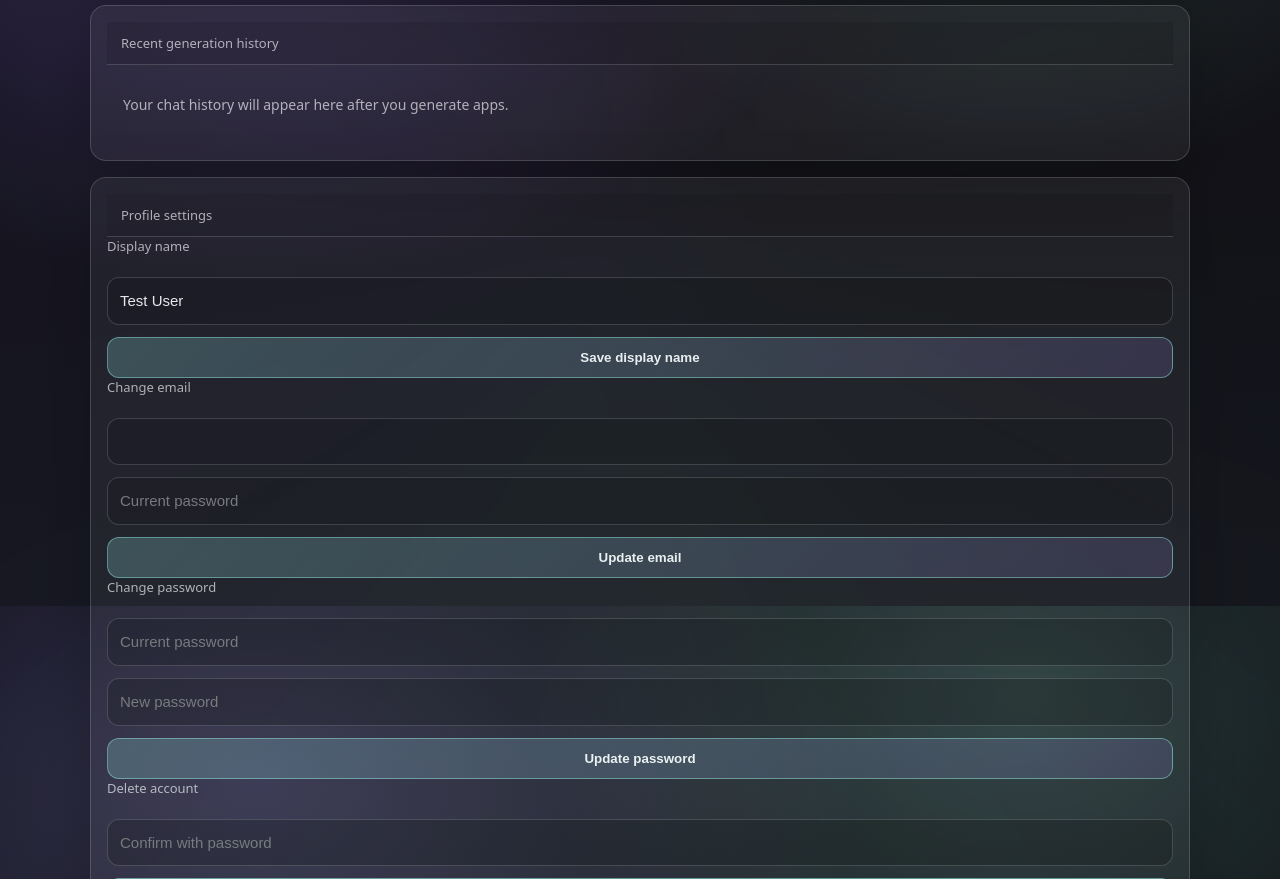
DashboardPage › shows account management errors for Error rejections
(page scrolled)
In the field labelled "Change email": {"x": 640, "y": 442} [107, 418, 1173, 466], type "new@example.com"
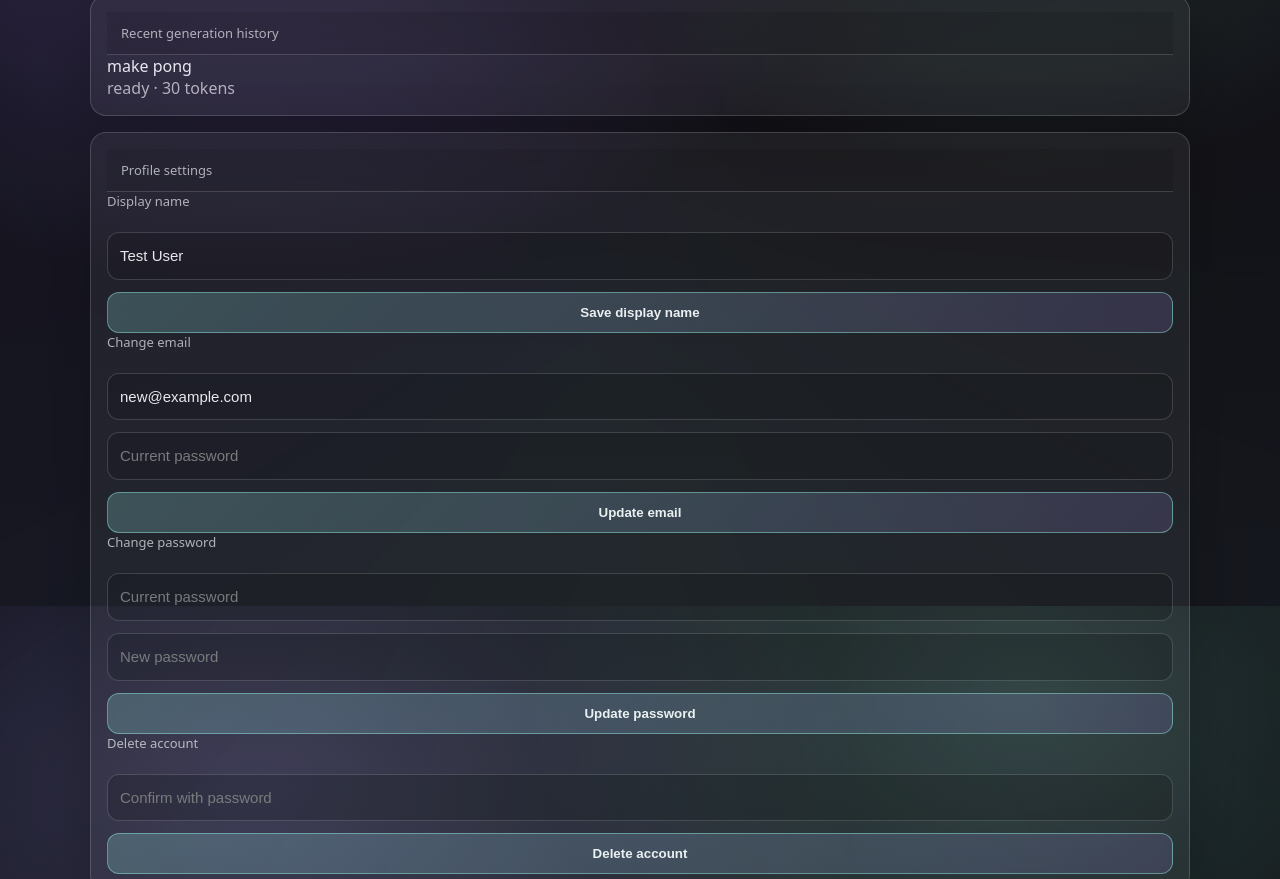
In the password field with placeholder "Current password" below "Change email": {"x": 640, "y": 456} [107, 432, 1173, 480], type "secret123"
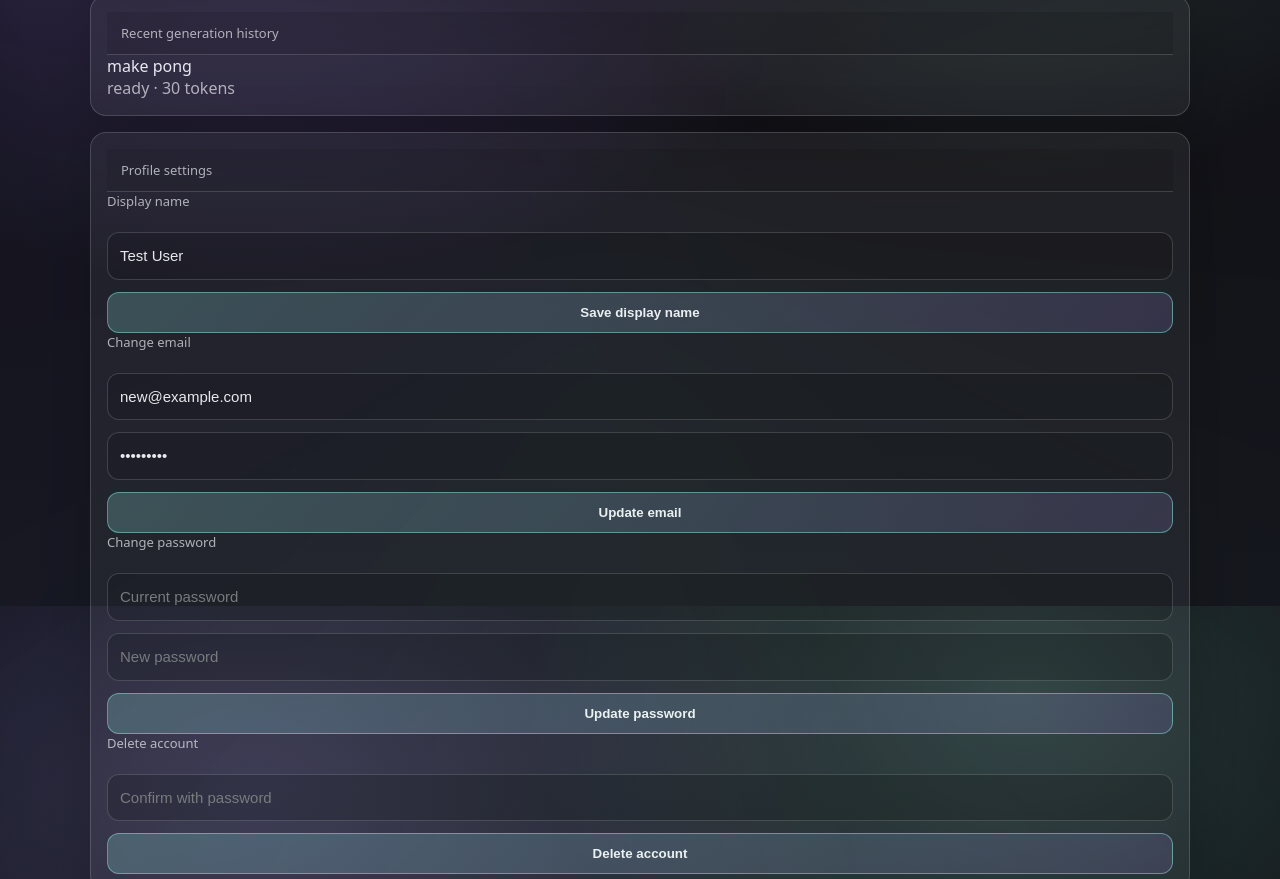
Click the button "Update email": {"x": 640, "y": 513} [107, 492, 1173, 533]
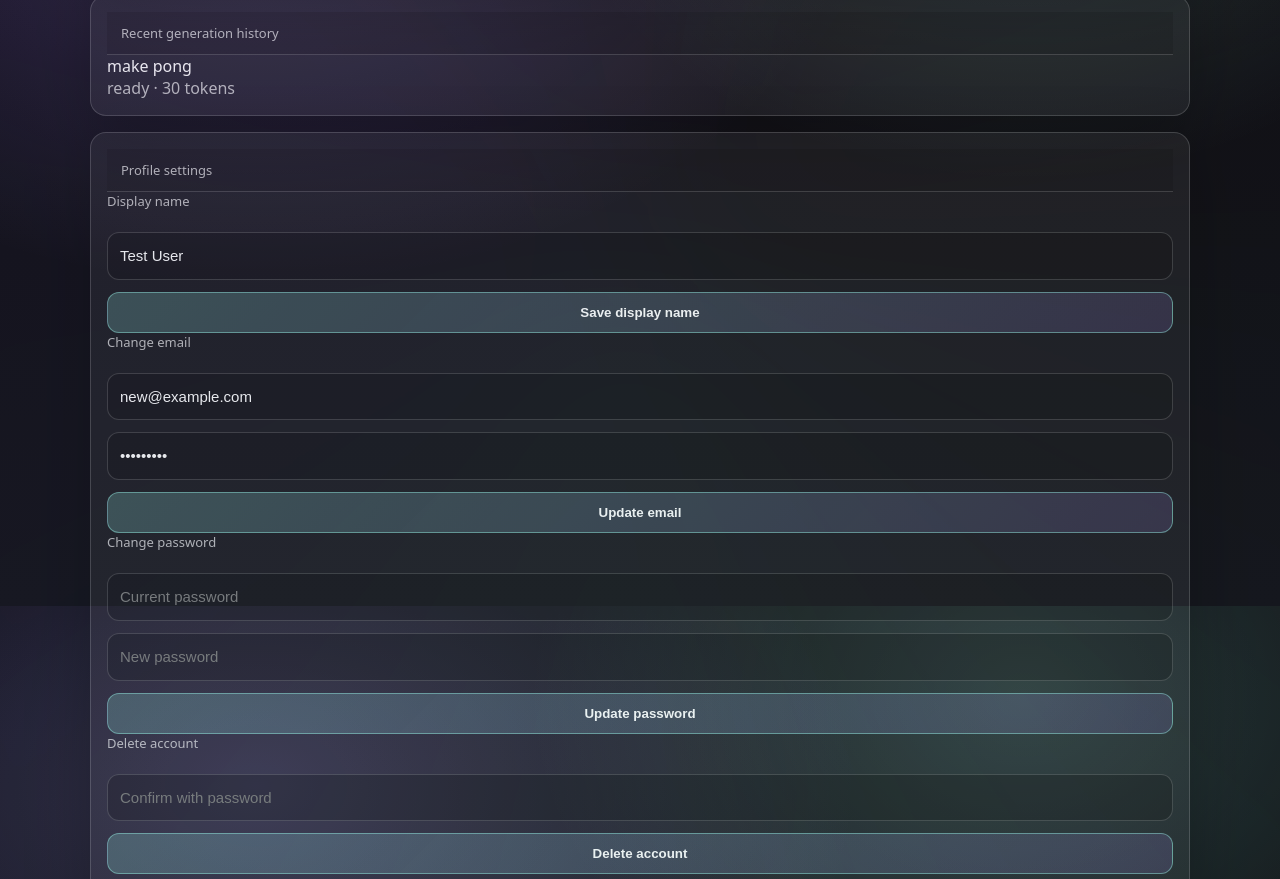
In the password field labelled "Delete account": {"x": 640, "y": 798} [107, 774, 1173, 822], type "secret123"
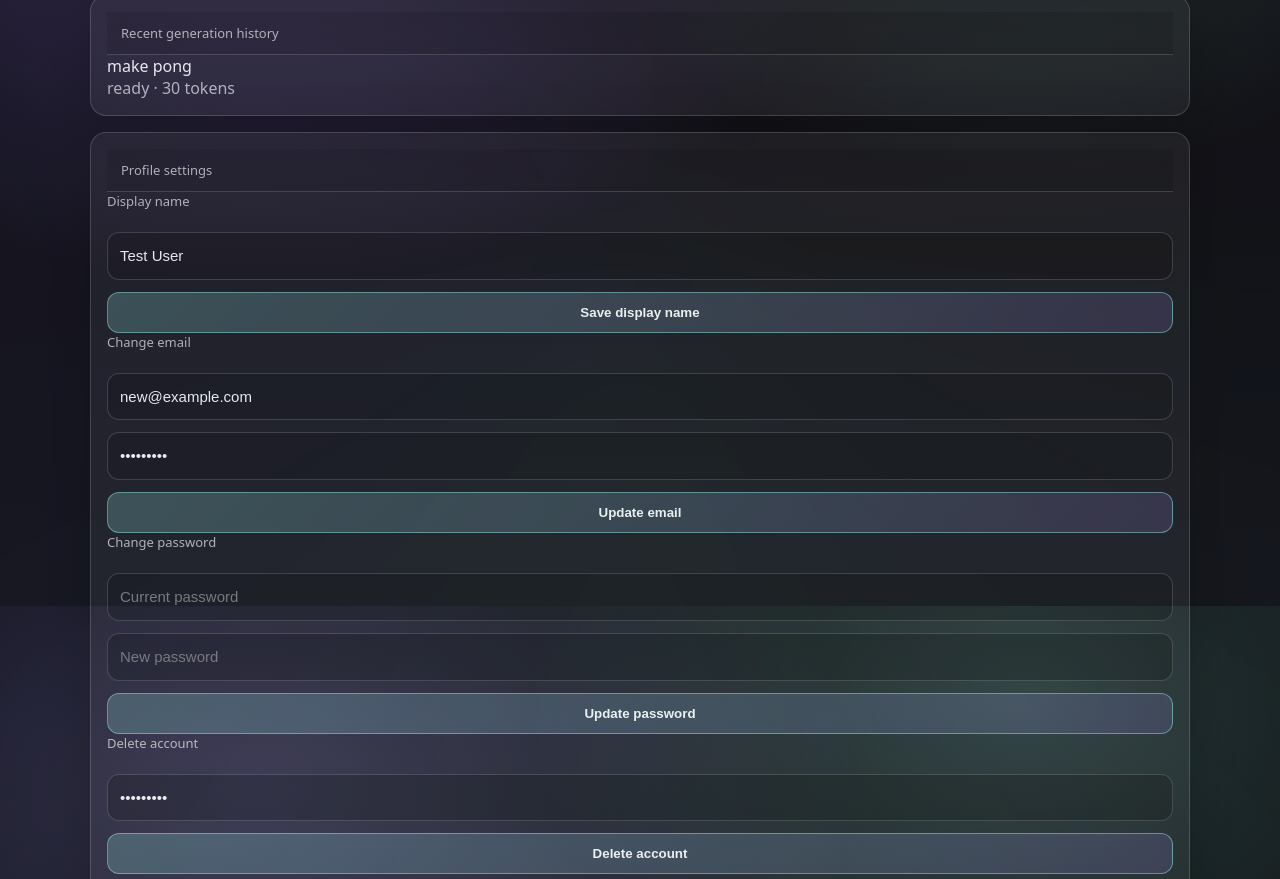
Click the button "Delete account": {"x": 640, "y": 854} [107, 833, 1173, 874]
(page scrolled)
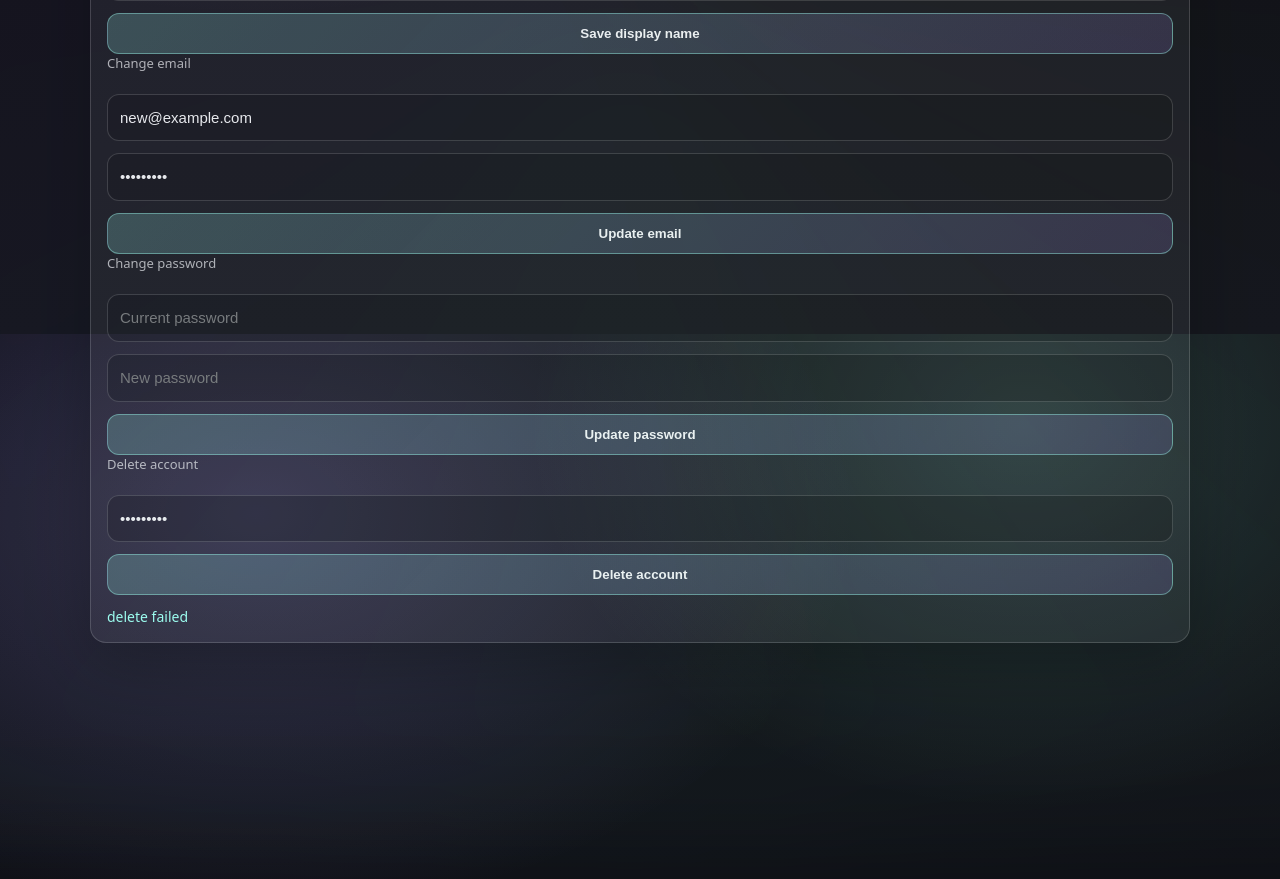
Result: the text "delete failed" is shown at [107, 607, 188, 626]
